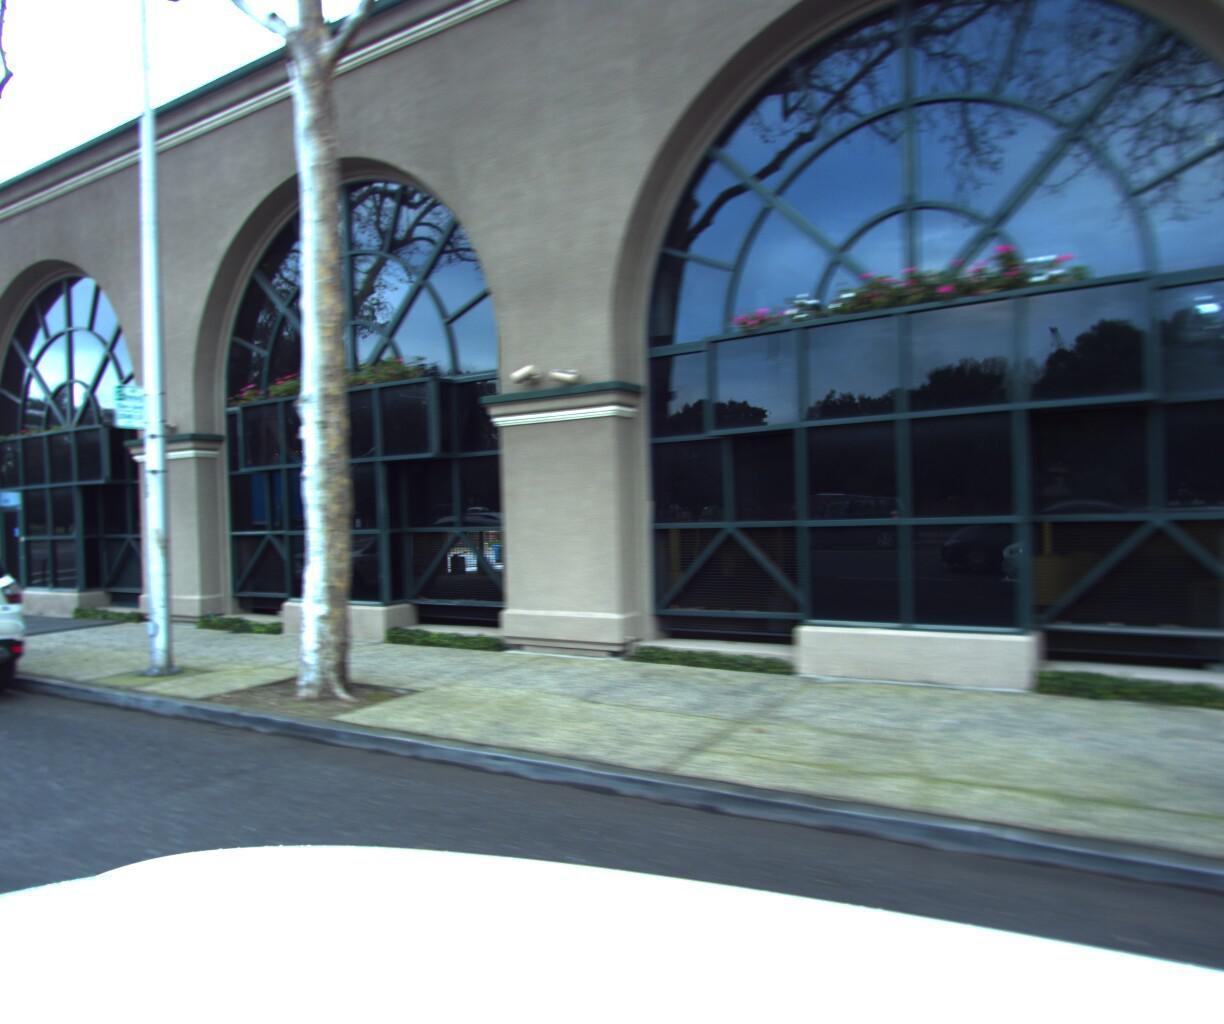car: (0, 518, 47, 728)
